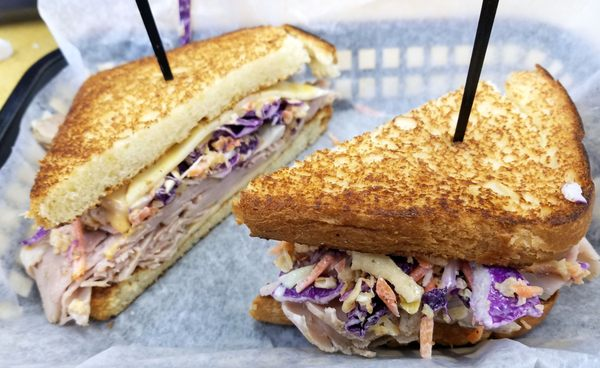soup: (233, 62, 600, 358), (12, 23, 342, 325)
